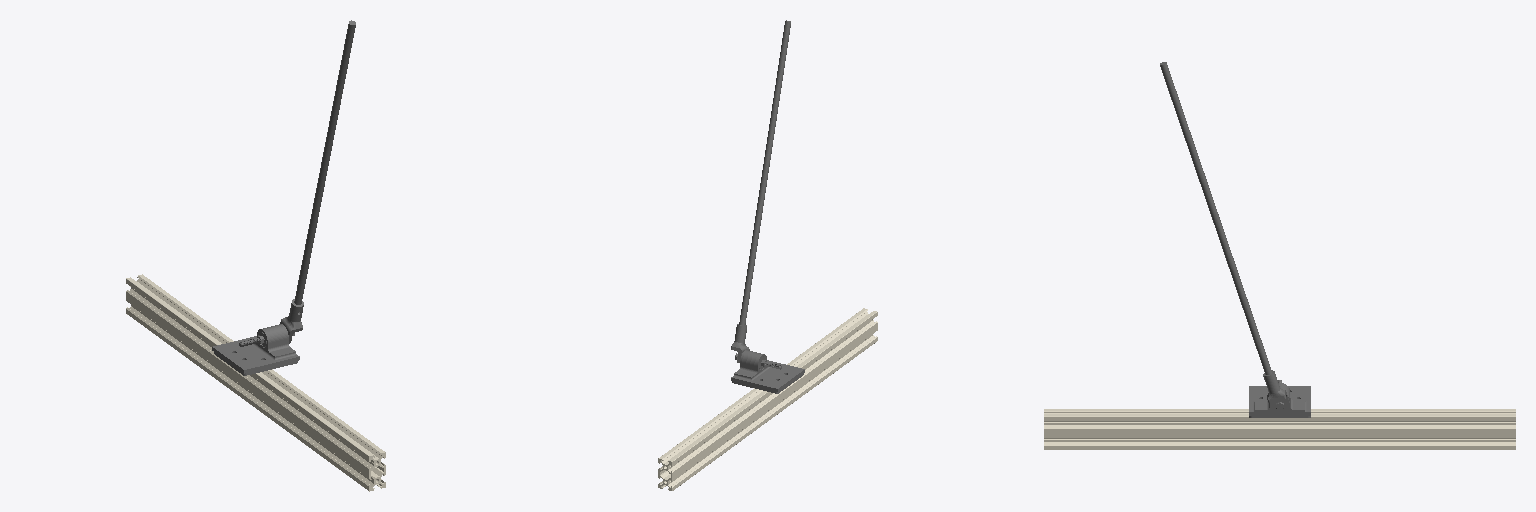
URDF robot description (inverted_pendulum):
<?xml version="1.0" encoding="utf-8"?>
<robot name="inverted_pendulum">
    <link name="base_link"/>
    <joint name="base_link_joint" type="fixed">
        <origin rpy="0 0 0" xyz="0 0 1.0"/>
        <parent link="base_link"/>
        <child link="linear_rail"/>
    </joint>
    <link name="world"/>
    <joint name="fixed" type="fixed">
        <parent link="world"/>
        <child link="base_link"/>
    </joint>
    <!-- Linear rail -->
    <link name="linear_rail">
        <static>true</static>
        <inertial>
            <origin xyz="0.0 0.0 0.0" rpy="0.0 0.0 0.0"/>
            <mass value="0.405"/>
            <inertia ixx="8.502e-3" ixy="0.0" ixz="0.0" iyy="8.163e-5" iyz="0.0" izz="8.454e-3"/>
        </inertial>
        <visual name="">
            <origin xyz="0.0 0.0 0.0" rpy="0.0 0.0 0.0"/>
            <geometry>
                <mesh filename="package://inverted_pendulum_description/meshes/Linear_Rail.dae"/>
            </geometry>
        </visual>
        <collision>
            <origin rpy="0 0 0.0" xyz="0.0 0 0.0"/>
            <geometry>
                <mesh filename="package://inverted_pendulum_description/meshes/Linear_Rail.dae"/>
            </geometry>
    </collision>
    </link>
    <!-- Gantry Assembly -->
    <link name="gantry_assembly">
        <inertial>
            <origin xyz="0.0 0.0 0.0" rpy="0.0 0.0 1.5708"/>
            <mass value="0.077"/>
            <inertia ixx="1.103e-5" ixy="0.0" ixz="0.0" iyy="1.009e-5" iyz="0.0" izz="2.108e-5"/>
        </inertial>
        <visual name="">
            <origin xyz="0.0 0.0 0.0" rpy="0.0 0.0 1.5708"/>
            <geometry>
                <mesh filename="package://inverted_pendulum_description/meshes/Gantry_Pendulum_Assembly.dae"/>
            </geometry>
        </visual>
        <collision>
            <origin xyz="0.0 0.0 0.0" rpy="0.0 0.0 1.5708"/>
            <geometry>
                <mesh filename="package://inverted_pendulum_description/meshes/Gantry_Pendulum_Assembly.dae"/>
            </geometry>
        </collision>
    </link>
    <joint name="moving_gantry" type="prismatic">
        <parent link="linear_rail"/>
        <child link="gantry_assembly"/>
        <origin xyz="0.0 0.0 0.05"/>
        <axis xyz="0 1 0"/>
        <limit effort="12.5106" lower="-0.220" upper="0.220" velocity="1000"/>
        <dynamics damping="0.1" friction="0.1"/>
    </joint>
    <!-- Pendulum -->
    <link name="pendulum">
        <inertial>
            <origin xyz="0.010 0.0 0.2075" rpy="3.14159 0.0 3.14159"/>
            <mass value="0.150"/>
            <inertia ixx="2.00111160e-3" ixy="0.0" ixz="0.0" iyy="2.00111160e-3" iyz="0.00000000e+0" izz="1.14105861e-6"/>
        </inertial>
        <visual name="">
            <origin xyz="0.010 0.0 0.2075" rpy="3.14159 0.0 3.14159"/>
            <geometry>
                <mesh filename="package://inverted_pendulum_description/meshes/Pendulum_Rod.dae"/>
            </geometry>
        </visual>
        <collision>
            <origin xyz="0.010 0.0 0.2075" rpy="3.14159 0.0 3.14159"/>
            <geometry>
                <mesh filename="package://inverted_pendulum_description/meshes/Pendulum_Rod.dae"/>
            </geometry>
        </collision>
    </link>
    <joint name="pendulum_gantry" type="continuous">
        <parent link="gantry_assembly"/>
        <child link="pendulum"/>
        <origin xyz="0.03118 0.0 0.0175" rpy="0.3 0.0 0.0"/>
        <axis xyz="1 0 0"/>
        <dynamics damping="1E-6" friction="1E-3"/>
    </joint>
</robot>

--- Facts derived from the render (not from the file) ---
The picture shows the robot from 3 angles, left to right: view 1: azimuth 30°, elevation 25°; view 2: azimuth 150°, elevation 25°; view 3: azimuth 270°, elevation 25°; orthographic projection.
Model inverted_pendulum with 5 links and 4 joints (1 continuous, 1 prismatic, 2 fixed), rooted at world, posed all joints at 0.
Visible links, largest first — view 1: linear_rail, pendulum, gantry_assembly; view 2: linear_rail, pendulum, gantry_assembly; view 3: linear_rail, pendulum, gantry_assembly.
Link boxes in pixels (x1,y1,x2,y2): linear_rail: (126, 274, 385, 491); pendulum: (280, 20, 355, 343); gantry_assembly: (212, 324, 299, 375); linear_rail: (658, 308, 877, 490); pendulum: (731, 20, 790, 362); gantry_assembly: (731, 350, 804, 393); linear_rail: (1044, 409, 1515, 449); pendulum: (1160, 62, 1289, 409); gantry_assembly: (1249, 380, 1310, 417).
Bounding box of the posed robot: 0.0825 × 0.5 × 0.4699 m (x, y, z).
3 mesh visuals loaded from 3 distinct referenced files (3 Collada DAE).